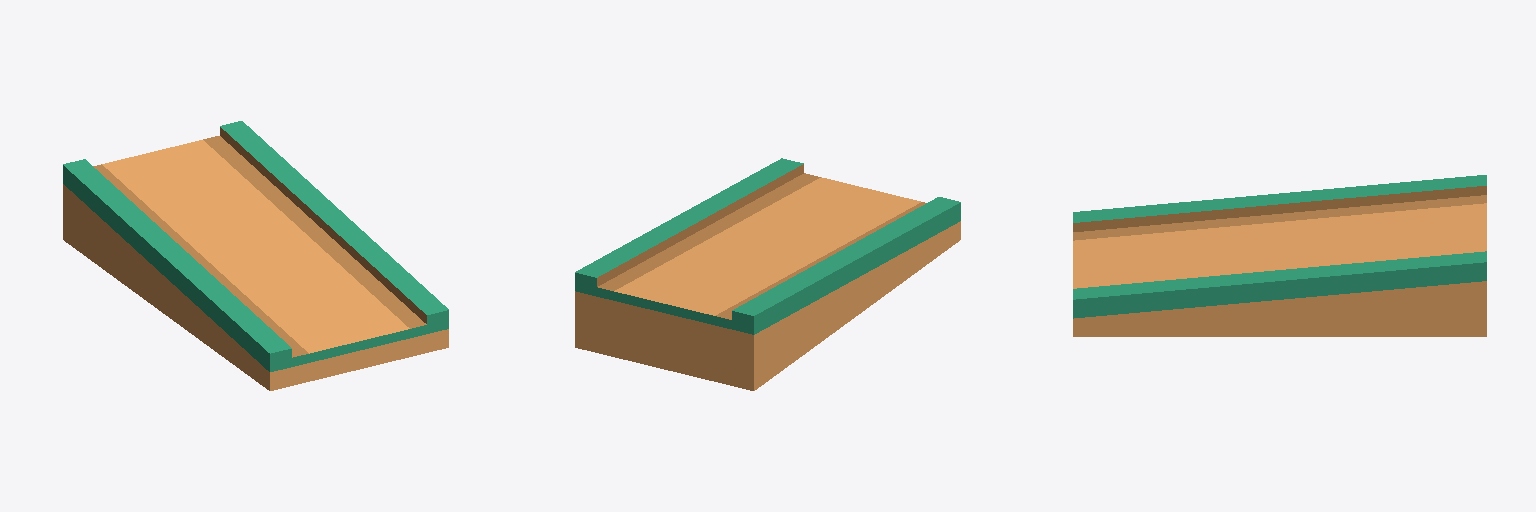
The picture shows the model from 3 angles: view 1: azimuth 30°, elevation 25°; view 2: azimuth 150°, elevation 25°; view 3: azimuth 270°, elevation 25°; orthographic projection.
Parts seen in each view (by area): view 1: tile_straightHillLarge; view 2: tile_straightHillLarge; view 3: tile_straightHillLarge.
Part boxes in pixels (x1,y1,x2,y2): tile_straightHillLarge: (63,121,448,390); tile_straightHillLarge: (575,158,960,390); tile_straightHillLarge: (1073,175,1486,336).
Bounding box in the file's own units: 0.5 × 0.2 × 1.